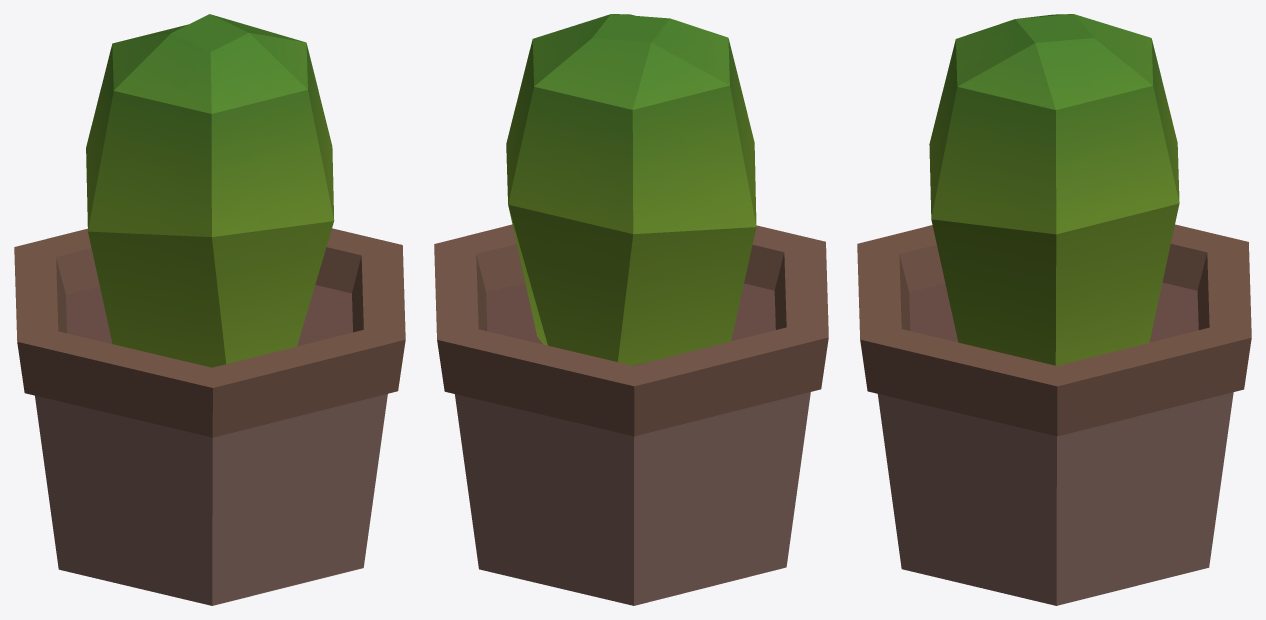
The model's file is Pot1.fbx.
The picture shows the model from 3 angles, left to right: view 1: azimuth 30°, elevation 25°; view 2: azimuth 150°, elevation 25°; view 3: azimuth 270°, elevation 25°; orthographic projection.
Parts seen in each view (by area): view 1: Pot1; view 2: Pot1; view 3: Pot1.
Part boxes in pixels (left/top/right/bottom): Pot1: left=14, top=14, right=405, bottom=605; Pot1: left=434, top=14, right=828, bottom=605; Pot1: left=857, top=14, right=1251, bottom=605.
Size of the model in its own units: 8.43 by 10.34 by 7.36.
